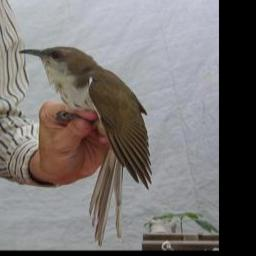Cuckoo: (17, 44, 150, 242)
